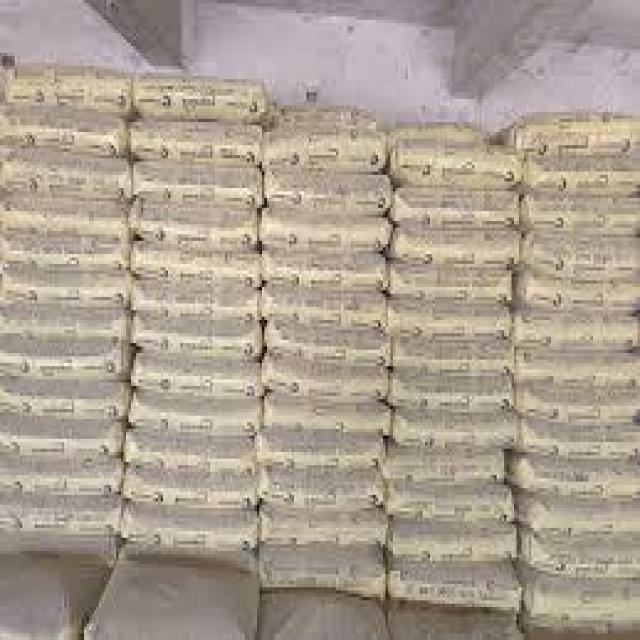gunny_bag: (9, 153, 124, 210), (402, 137, 519, 188), (265, 316, 385, 365), (393, 446, 501, 498), (140, 163, 258, 210), (399, 227, 516, 273), (274, 127, 386, 175), (393, 339, 512, 384), (130, 512, 250, 556), (140, 368, 259, 412), (137, 207, 252, 252), (516, 118, 636, 161), (142, 80, 259, 123), (133, 248, 252, 290), (394, 415, 518, 455), (13, 507, 114, 556), (5, 382, 127, 422), (265, 556, 384, 597), (138, 125, 259, 165), (393, 490, 514, 530), (269, 431, 381, 474), (538, 498, 640, 545), (133, 476, 252, 516), (394, 528, 512, 568), (135, 281, 258, 319), (272, 181, 388, 221), (524, 361, 640, 401), (537, 582, 639, 627), (532, 196, 640, 238), (269, 253, 385, 292), (135, 408, 254, 446), (399, 191, 515, 229), (269, 510, 381, 549), (523, 424, 635, 462), (5, 118, 120, 155), (404, 576, 518, 613), (268, 373, 394, 406), (7, 306, 122, 342), (535, 241, 640, 280), (524, 319, 640, 354), (139, 330, 258, 363), (13, 241, 125, 276), (13, 347, 118, 384), (397, 273, 511, 307), (9, 75, 129, 106), (1, 427, 105, 462), (9, 207, 125, 238), (8, 465, 116, 498), (528, 465, 637, 497)
